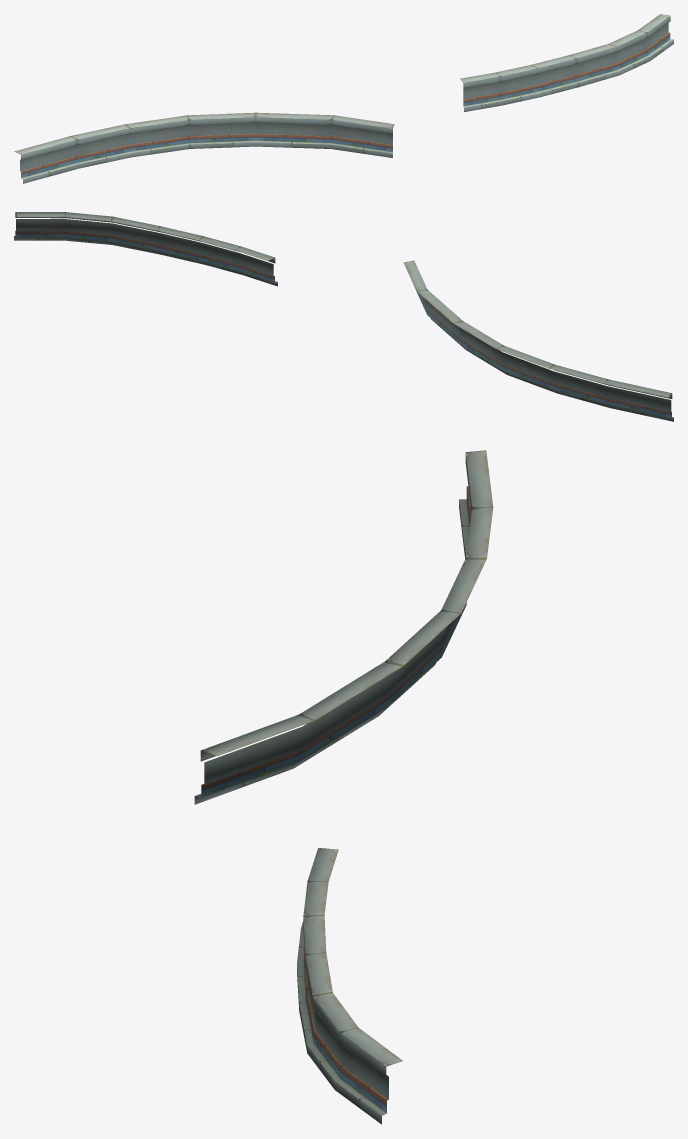
File: Map_06_wall13.FBX
3 views of the same model, one above another, from view 1: azimuth 30°, elevation 25°; view 2: azimuth 150°, elevation 25°; view 3: azimuth 270°, elevation 25° (orthographic). The views are drawn at different scales.
Parts seen in each view (by area): view 1: Map_06_wall13; view 2: Map_06_wall13; view 3: Map_06_wall13.
Boxes of the visible parts, left/top/right/bottom form: Map_06_wall13: left=14, top=14, right=673, bottom=183; Map_06_wall13: left=14, top=212, right=673, bottom=421; Map_06_wall13: left=194, top=450, right=493, bottom=1124.
Size of the model in its own units: 4205 by 858 by 177.
